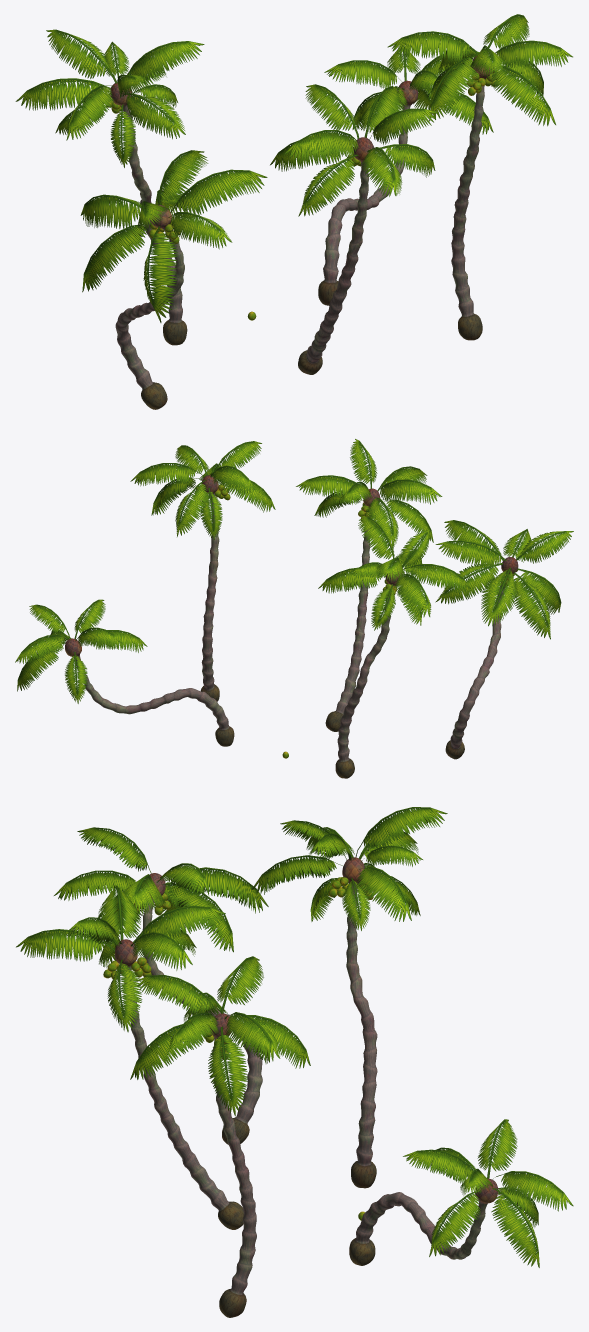
File: stylized_palm_pack.fbx
The picture shows the model from 3 angles, top to bottom: view 1: azimuth 30°, elevation 25°; view 2: azimuth 150°, elevation 25°; view 3: azimuth 270°, elevation 25°; orthographic projection. The views are drawn at different scales.
Visible parts, largest first — view 1: PalmTree5, PalmTree2, PalmTree1, PalmTree4, PalmTree3; view 2: PalmTree5, PalmTree4, PalmTree1, PalmTree2, PalmTree3; view 3: PalmTree1, PalmTree4, PalmTree2, PalmTree3, PalmTree5.
Boxes of the visible parts, <box> form: PalmTree5: <box>80,150,267,409</box>; PalmTree2: <box>270,84,438,374</box>; PalmTree1: <box>15,29,204,345</box>; PalmTree4: <box>387,14,572,340</box>; PalmTree3: <box>318,46,493,305</box>; PalmTree5: <box>435,520,573,759</box>; PalmTree4: <box>130,441,275,701</box>; PalmTree1: <box>318,516,470,778</box>; PalmTree2: <box>296,439,442,731</box>; PalmTree3: <box>15,599,234,746</box>; PalmTree1: <box>251,807,447,1188</box>; PalmTree4: <box>130,956,310,1317</box>; PalmTree2: <box>16,885,243,1229</box>; PalmTree3: <box>349,1119,573,1267</box>; PalmTree5: <box>54,827,268,1144</box>.
Size of the model in its own units: 2051 by 1745 by 1200.
